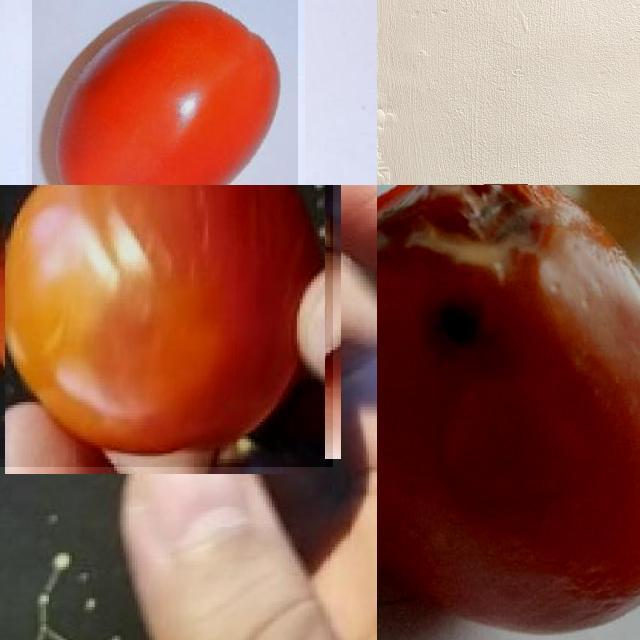tomato: (32, 1, 299, 186)
